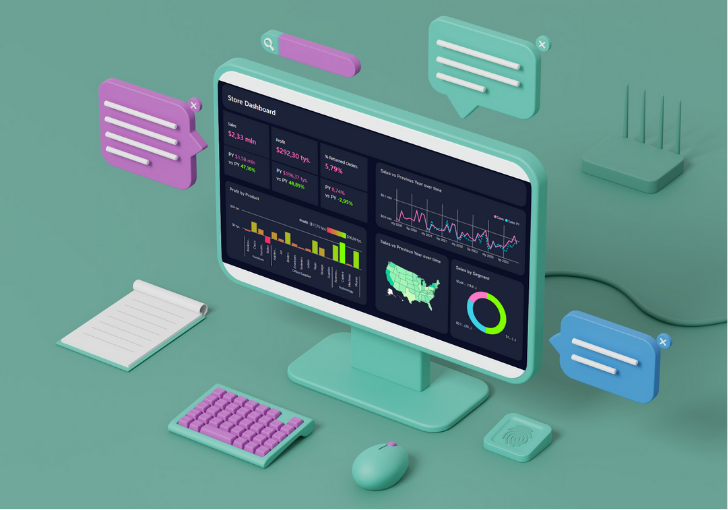

The dashboard page shown, as its layout file describes it:
{"tool":"powerbi","page":{"name":"Strona 1","canvas":[1280,720],"ordinal":0},"visuals":[{"type":"cardVisual","fields":{"Data":["Key Measures.Sales","Key Measures.Profit","Key Measures.% Returned Orders"]},"box":[11.2,100.2,627.4,270],"z":0},{"type":"shape","box":[18.9,5.7,1239.7,94.5],"z":1000},{"type":"lineChart","title":"Sales vs Previous Year over time","fields":{"Y":["Key Measures.Sales","Key Measures.Sales PY"],"Category":["Date Table.Start of month"]},"box":[659.5,109.6,601,250],"z":2000},{"type":"columnChart","title":"Profit by Product","fields":{"Category":["Orders.Category","Orders.Sub-Category"],"Y":["Key Measures.Profit"]},"box":[22.2,381.7,602,308],"z":3000},{"type":"shapeMap","title":"Sales vs Previous Year over time","fields":{"Value":["Key Measures.Profit"],"Category":["Orders.State/Province"]},"box":[659.3,381.7,300.5,308],"z":4000},{"type":"donutChart","title":"Sales by Segment","fields":{"Category":["Orders.Segment"],"Y":["Key Measures.Sales"]},"box":[967.4,381.7,292.9,308],"z":5000}]}

Visuals, with their boxes on the page's 1280x720 design canvas (x1, y1, x2, y2). These are canvas units, not pixel positions in the 728x510 screenshot, which may show the page scaled, cropped or inside an application window:
cardVisual - Key Measures.Sales x Key Measures.Profit: 11, 100, 639, 370
shape: 19, 6, 1259, 100
"Sales vs Previous Year over time" lineChart: 660, 110, 1260, 360
"Profit by Product" columnChart: 22, 382, 624, 690
"Sales vs Previous Year over time" shapeMap: 659, 382, 960, 690
"Sales by Segment" donutChart: 967, 382, 1260, 690
